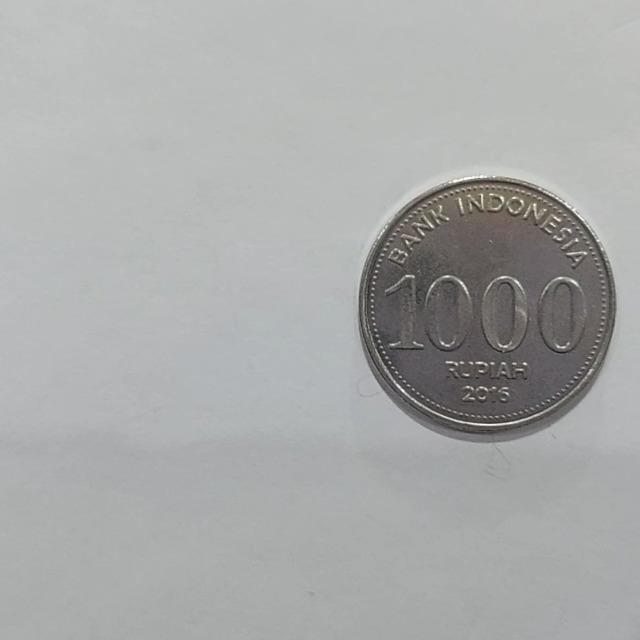Rp100: (356, 172, 617, 442)
